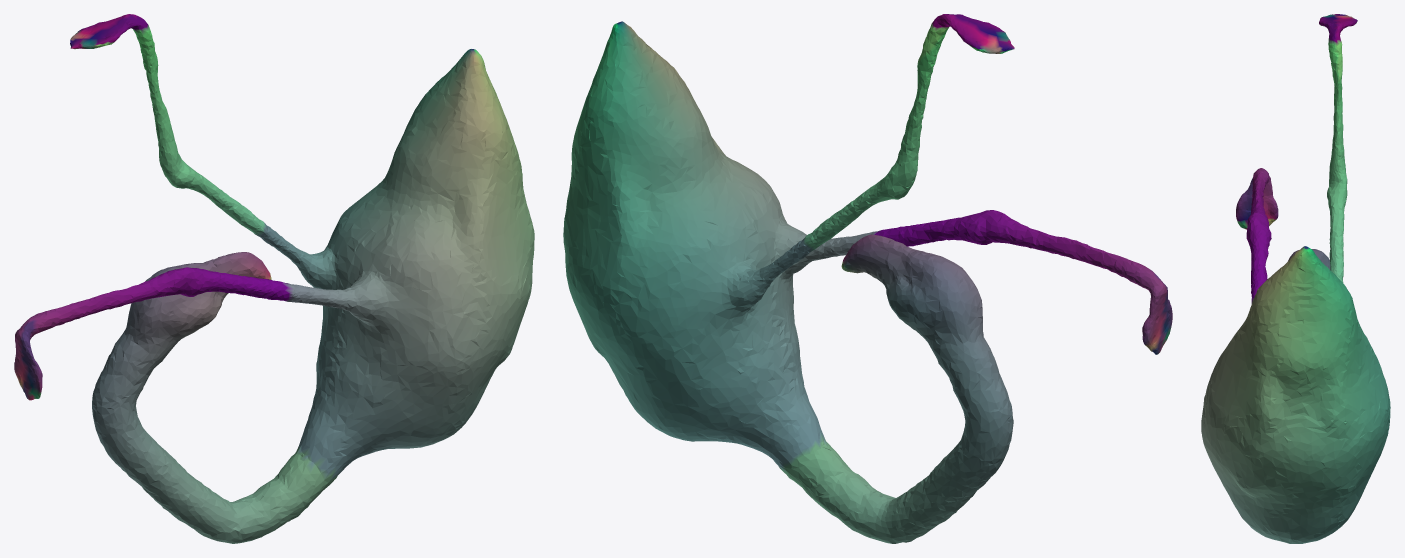
Rendered from flamingo-5.off.obj.
The picture shows the model from 3 angles, left to right: view 1: azimuth 30°, elevation 25°; view 2: azimuth 150°, elevation 25°; view 3: azimuth 270°, elevation 25°; orthographic projection. The views are drawn at different scales.
Bounding box in the file's own units: 1.26 × 1.22 × 0.4574.
